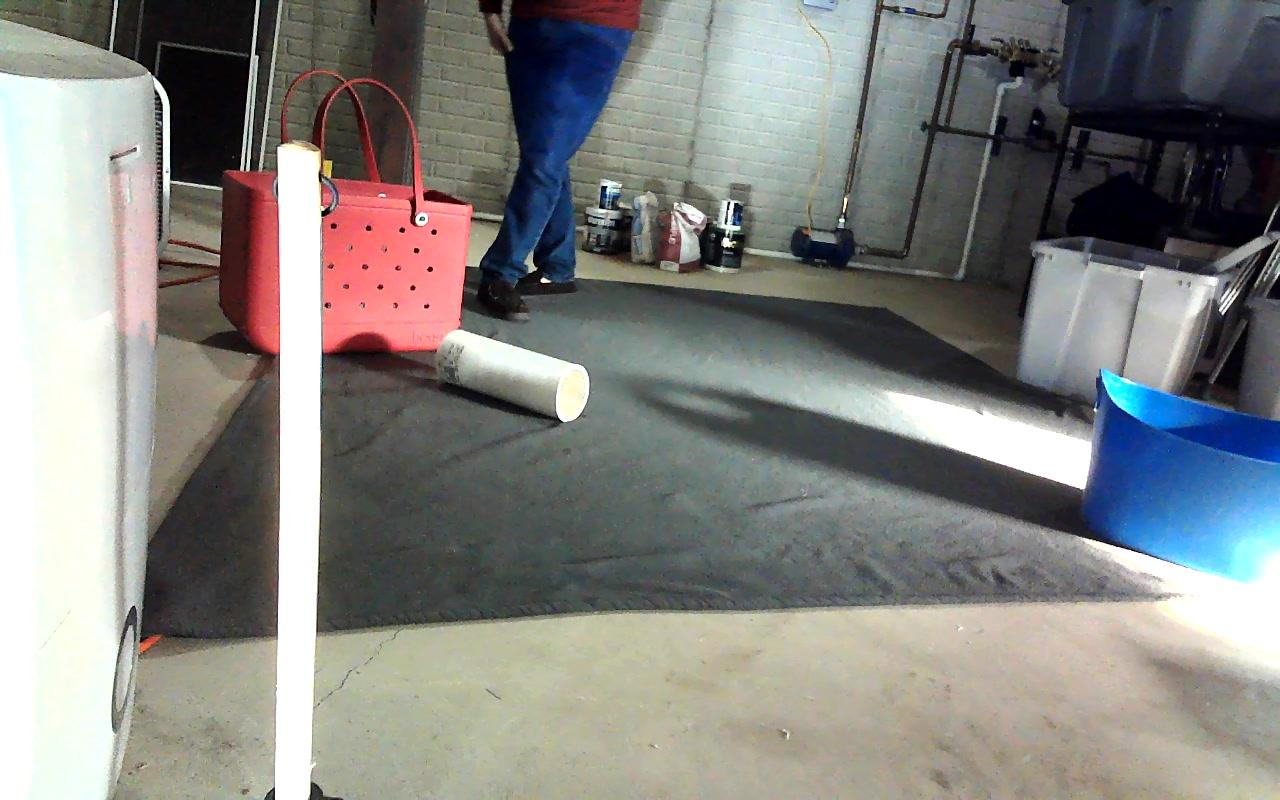coral: (435, 328, 591, 423)
